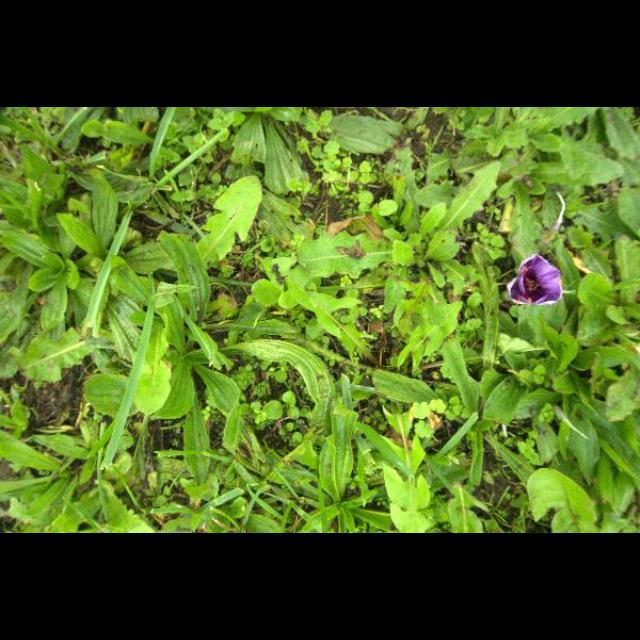flower: (506, 253, 564, 305)
